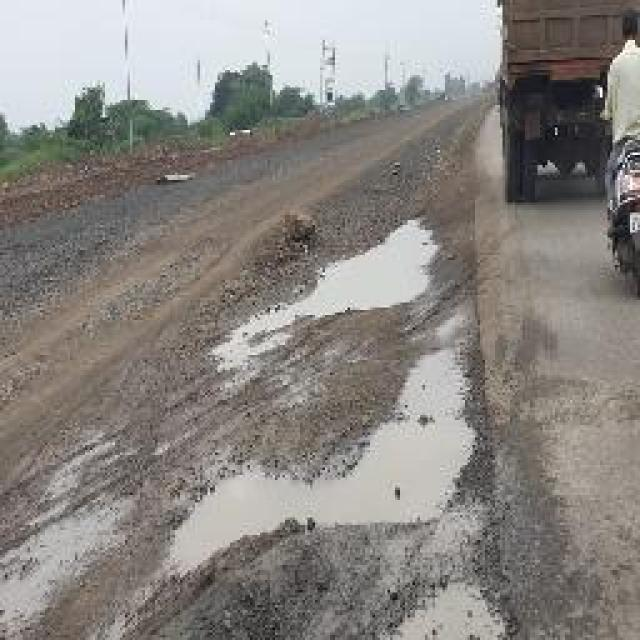waterlogging: (167, 349, 512, 550), (236, 202, 447, 322)
